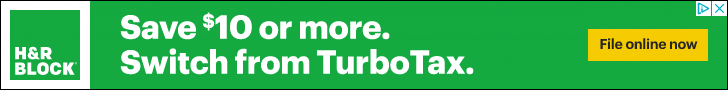fake_button: (577, 22, 718, 74)
